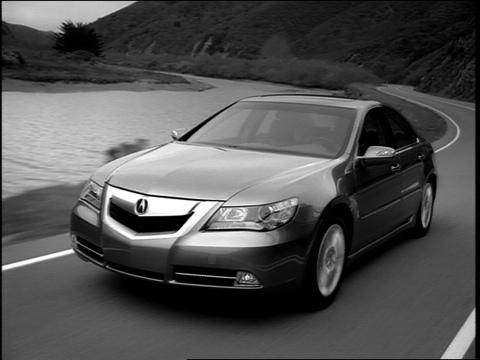car: (68, 93, 440, 317)
